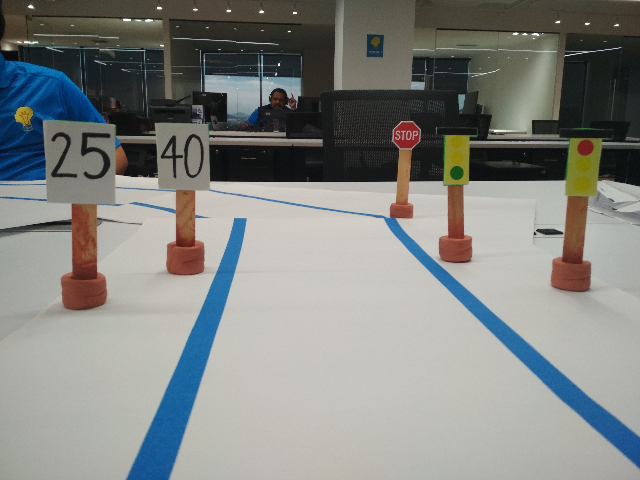Green Traffic Light: (434, 126, 478, 185)
Red Traffic Light: (556, 126, 613, 199)
Speed Limit 25: (37, 115, 119, 205)
Speed Limit 40: (149, 120, 212, 187)
Stop Sign: (392, 119, 422, 150)
